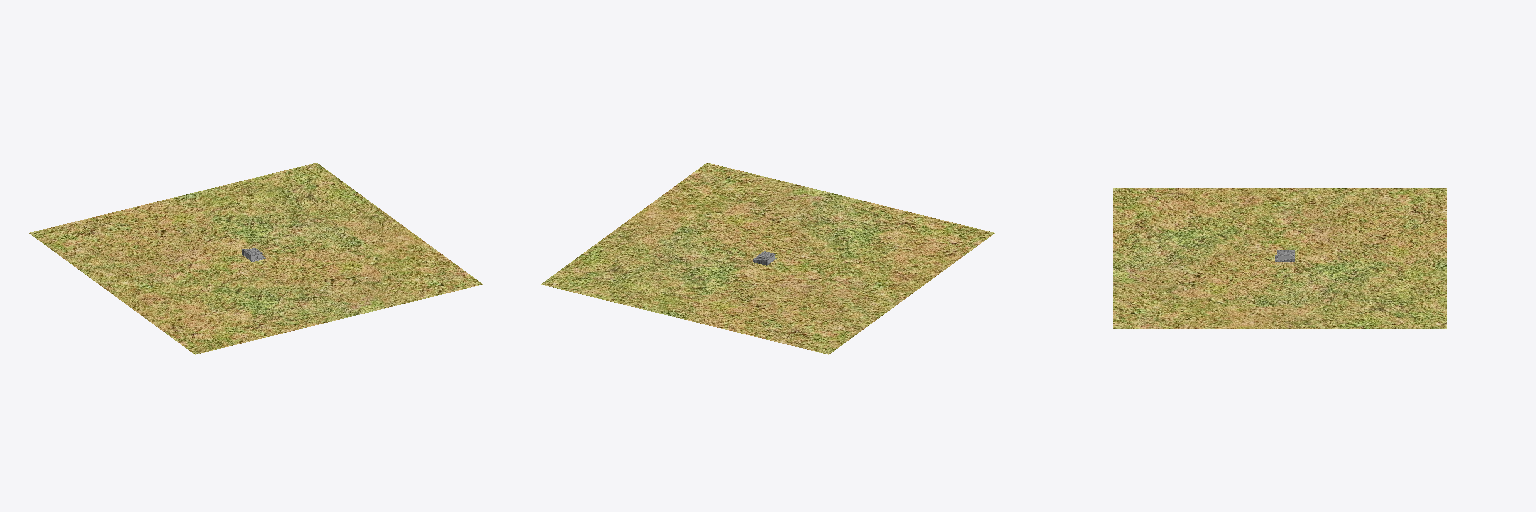
The picture shows the model from 3 angles: view 1: azimuth 30°, elevation 25°; view 2: azimuth 150°, elevation 25°; view 3: azimuth 270°, elevation 25°; orthographic projection.
Parts seen in each view (by area): view 1: Plane; view 2: Plane; view 3: Plane.
Boxes of the visible parts, box(x1,y1,x2,y2) form: Plane: box(29, 163, 482, 354); Plane: box(541, 163, 994, 354); Plane: box(1113, 188, 1446, 328).
Bounding box in the file's own units: 500 × 9 × 500.
Materials: 3 (2 with a texture image).